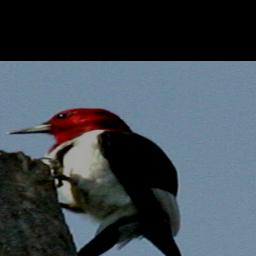Woodpecker: (2, 107, 187, 256)
